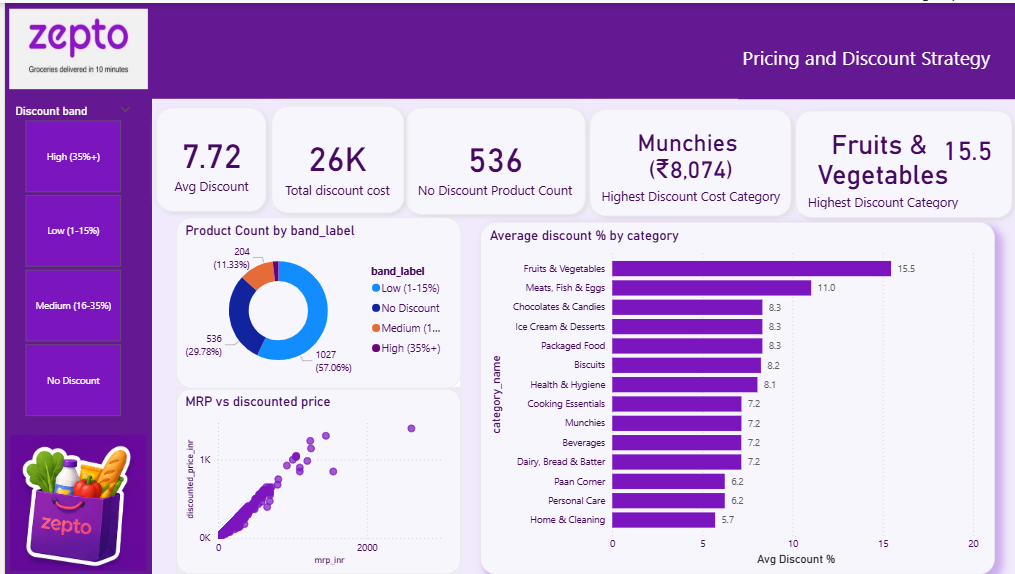

This screenshot's page, from the dashboard's own definition file:
{"tool":"powerbi","page":{"name":"Pricing and Discount","canvas":[1280,720],"ordinal":2},"visuals":[{"type":"shape","box":[0,0,1279.4,120.9],"z":0},{"type":"shape","box":[986.5,126.6,292.9,153.1],"z":1000},{"type":"shape","box":[0,0,185.2,720],"z":2000},{"type":"shape","box":[495.1,122.8,245.7,153.1],"z":3000},{"type":"shape","box":[727.6,124.7,272.1,153.1],"z":4000},{"type":"shape","box":[181.4,122.8,156.9,149.3],"z":5000},{"type":"card","fields":{"Values":["Fact_Products.Avg Discount by Category"]},"box":[196.5,141.7,126.6,113.4],"z":6000},{"type":"slicer","fields":{"Values":["Discount_Band.band_label"]},"box":[0,122.8,170.1,404.4],"z":7000},{"type":"barChart","title":"Average discount % by category","fields":{"Category":["Category.category_name"],"Y":["Fact_Products.Avg Discount %"]},"box":[599.1,275.9,648.2,444.1],"z":8000},{"type":"scatterChart","title":"MRP vs discounted price","fields":{"X":["Fact_Products.mrp_inr"],"Y":["Fact_Products.discounted_price_inr"]},"box":[215.4,485.7,359.1,234.3],"z":9000},{"type":"card","fields":{"Values":["Fact_Products.Highest Discount Category Name"]},"box":[999.7,143.6,211.7,120.9],"z":10000},{"type":"card","fields":{"Values":["Fact_Products.Highest Discount Category Value"]},"box":[1167.9,158.7,88.8,49.1],"z":11000},{"type":"card","fields":{"Values":["Fact_Products.No Discount Product Count"]},"box":[512.1,158.7,209.8,90.7],"z":12000},{"type":"image","box":[0,538.6,185.2,181.4],"z":13000},{"type":"donutChart","fields":{"Category":["Discount_Band.band_label"],"Y":["Fact_Products.Product Count"]},"box":[215.4,270.2,359.1,215.4],"z":14000},{"type":"shape","box":[326.9,120.9,185.2,153.1],"z":15000},{"type":"card","fields":{"Values":["Fact_Products.Total discount cost"]},"box":[338.3,151.2,160.6,103.9],"z":16000},{"type":"card","fields":{"Values":["Fact_Products.Highest Discount Cost Category Combined"]},"box":[740.8,141.7,245.7,119.1],"z":17000},{"type":"textbox","box":[924.1,47.2,355.3,73.7],"z":18000},{"type":"image","box":[0,1.9,185.2,111.5],"z":19000}]}

Visuals, with their boxes in screenshot pixels (x1, y1, x2, y2), scaled from the page's 1280x720 canvas onto the 1015x574 screenshot:
shape: <bbox>0, 0, 1014, 96</bbox>
shape: <bbox>782, 101, 1014, 223</bbox>
shape: <bbox>0, 0, 147, 573</bbox>
shape: <bbox>393, 98, 587, 220</bbox>
shape: <bbox>577, 99, 793, 221</bbox>
shape: <bbox>144, 98, 268, 217</bbox>
card - Fact_Products.Avg Discount by Category: <bbox>156, 113, 256, 203</bbox>
slicer - Discount_Band.band_label: <bbox>0, 98, 135, 420</bbox>
"Average discount % by category" barChart: <bbox>475, 220, 989, 573</bbox>
"MRP vs discounted price" scatterChart: <bbox>171, 387, 456, 573</bbox>
card - Fact_Products.Highest Discount Category Name: <bbox>793, 114, 961, 211</bbox>
card - Fact_Products.Highest Discount Category Value: <bbox>926, 127, 997, 166</bbox>
card - Fact_Products.No Discount Product Count: <bbox>406, 127, 572, 199</bbox>
image: <bbox>0, 429, 147, 573</bbox>
donutChart - Discount_Band.band_label x Fact_Products.Product Count: <bbox>171, 215, 456, 387</bbox>
shape: <bbox>259, 96, 406, 218</bbox>
card - Fact_Products.Total discount cost: <bbox>268, 121, 396, 203</bbox>
card - Fact_Products.Highest Discount Cost Category Combined: <bbox>587, 113, 782, 208</bbox>
textbox: <bbox>733, 38, 1014, 96</bbox>
image: <bbox>0, 2, 147, 90</bbox>
